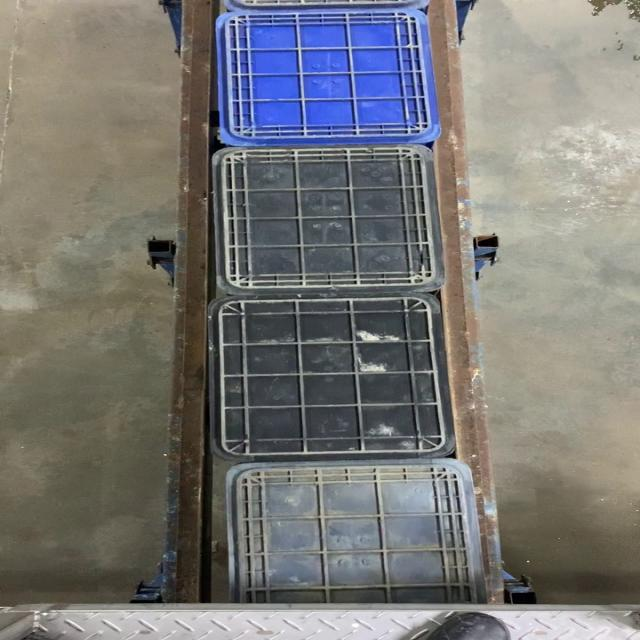Box: (205, 294, 455, 460), (208, 146, 447, 294), (212, 9, 440, 145)
